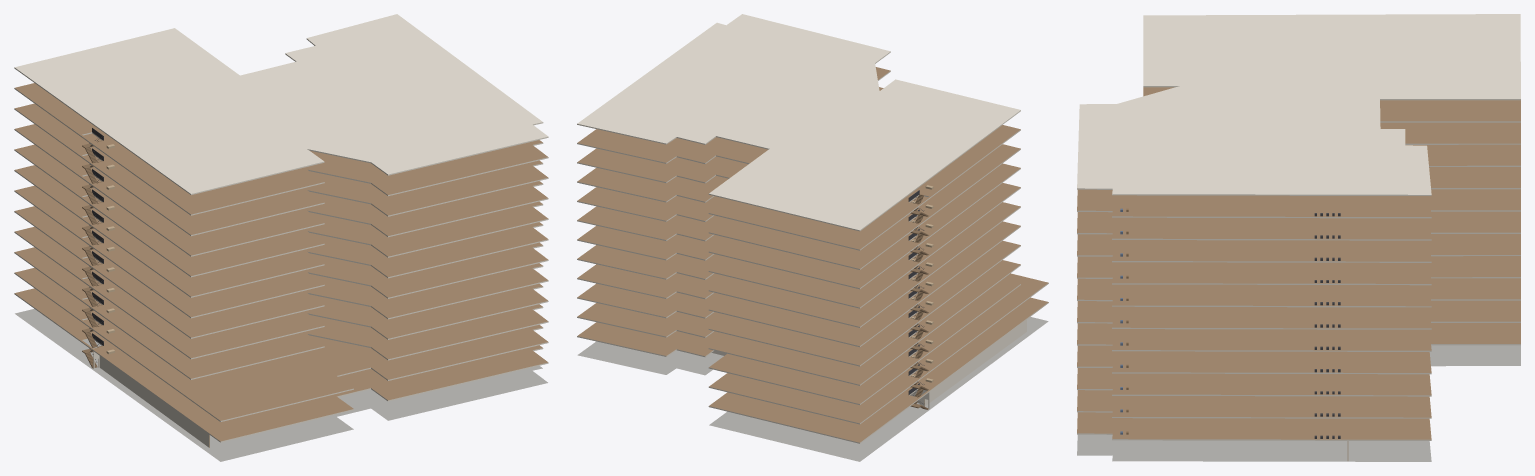
The model's file is interior.glb.
The picture shows the model from 3 angles, left to right: view 1: azimuth 30°, elevation 25°; view 2: azimuth 150°, elevation 25°; view 3: azimuth 270°, elevation 25°; orthographic projection. The views are drawn at different scales.
Parts seen in each view (by area): view 1: slabs, stair, partitions; view 2: slabs, stair, partitions; view 3: slabs.
Boxes of the visible parts, x1,y1,x2,y2 form: slabs: (14, 14, 548, 461); stair: (82, 128, 103, 368); partitions: (93, 351, 209, 447); slabs: (577, 14, 1048, 461); stair: (908, 190, 928, 409); partitions: (711, 319, 1026, 408); slabs: (1077, 14, 1520, 461).
Size of the model in its own units: 80.13 by 55.2 by 83.11.
